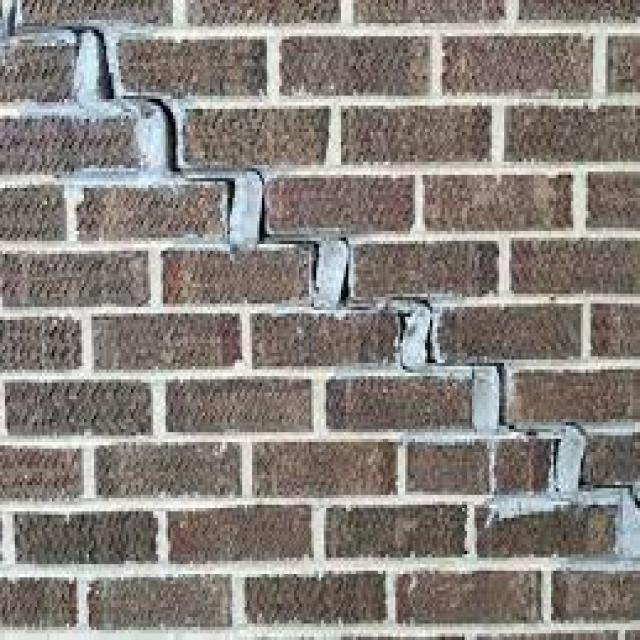Crack: (4, 0, 637, 501)
